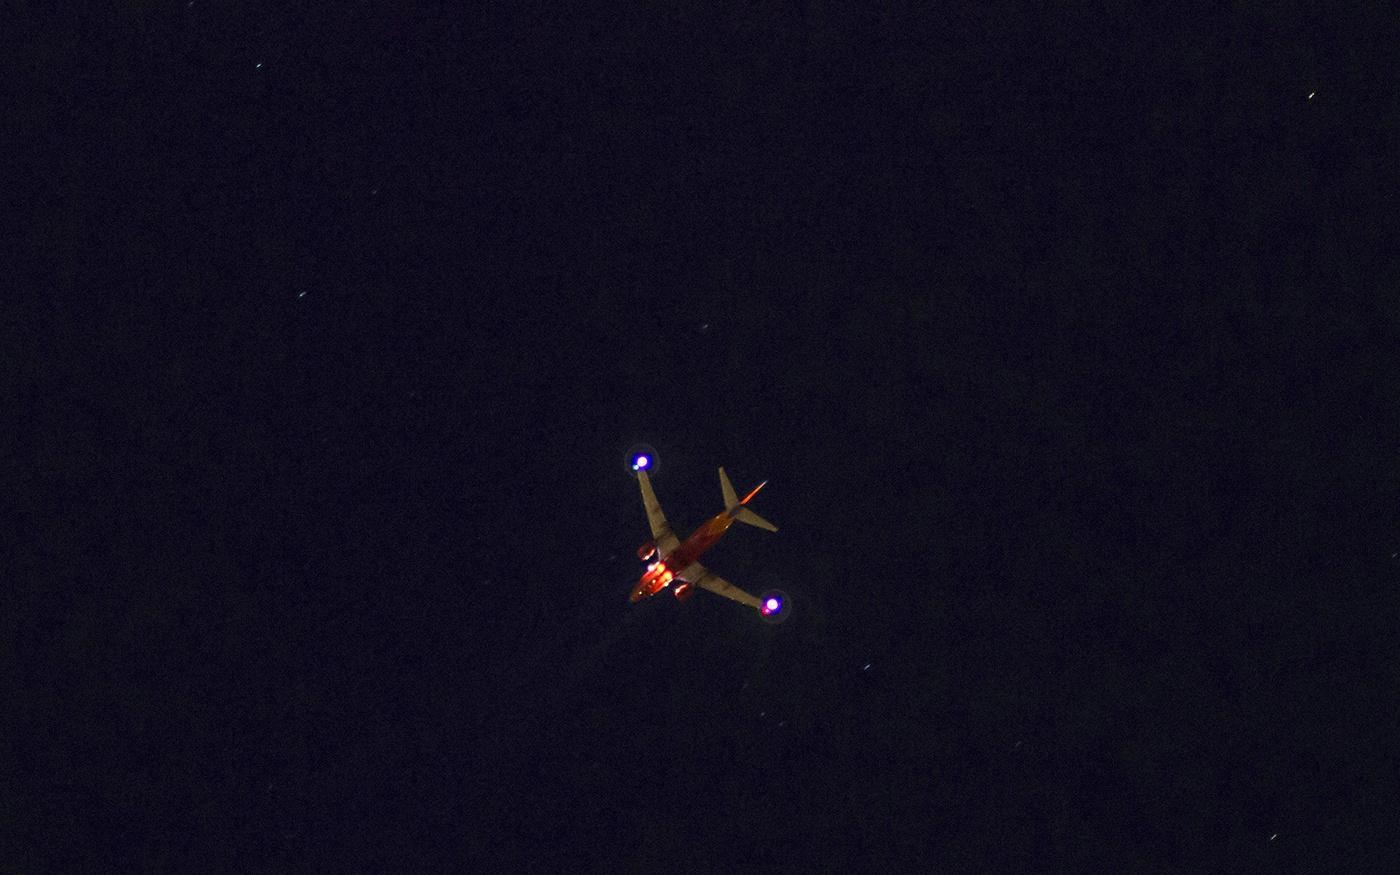Plane: (545, 412, 839, 658)
